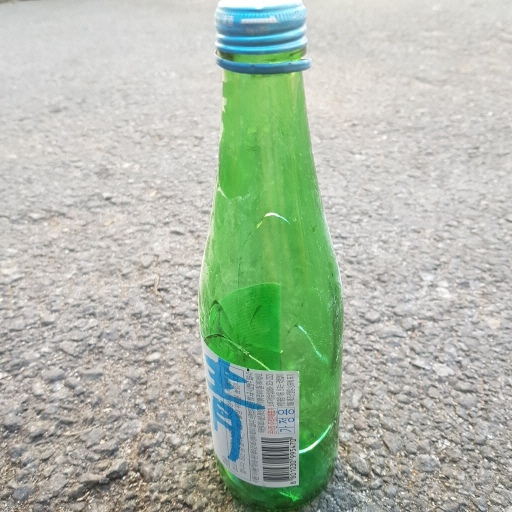Glass_0: (195, 1, 349, 512)
